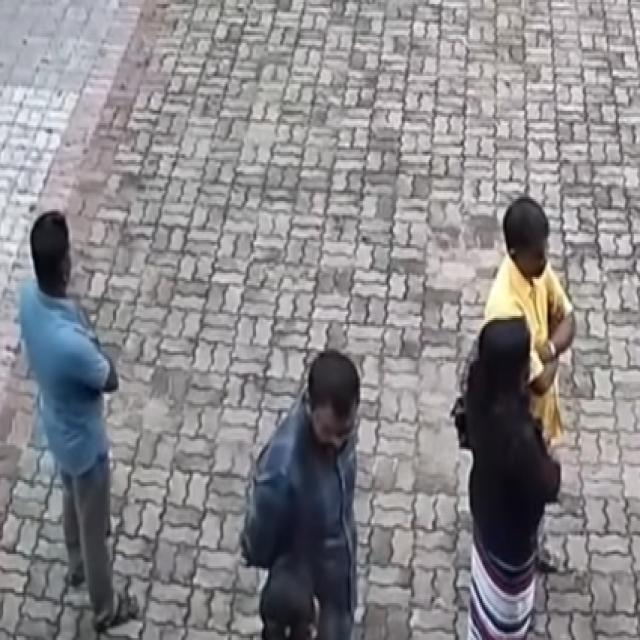person: (16, 207, 143, 635), (480, 195, 580, 582), (239, 345, 365, 640), (458, 312, 562, 640)
